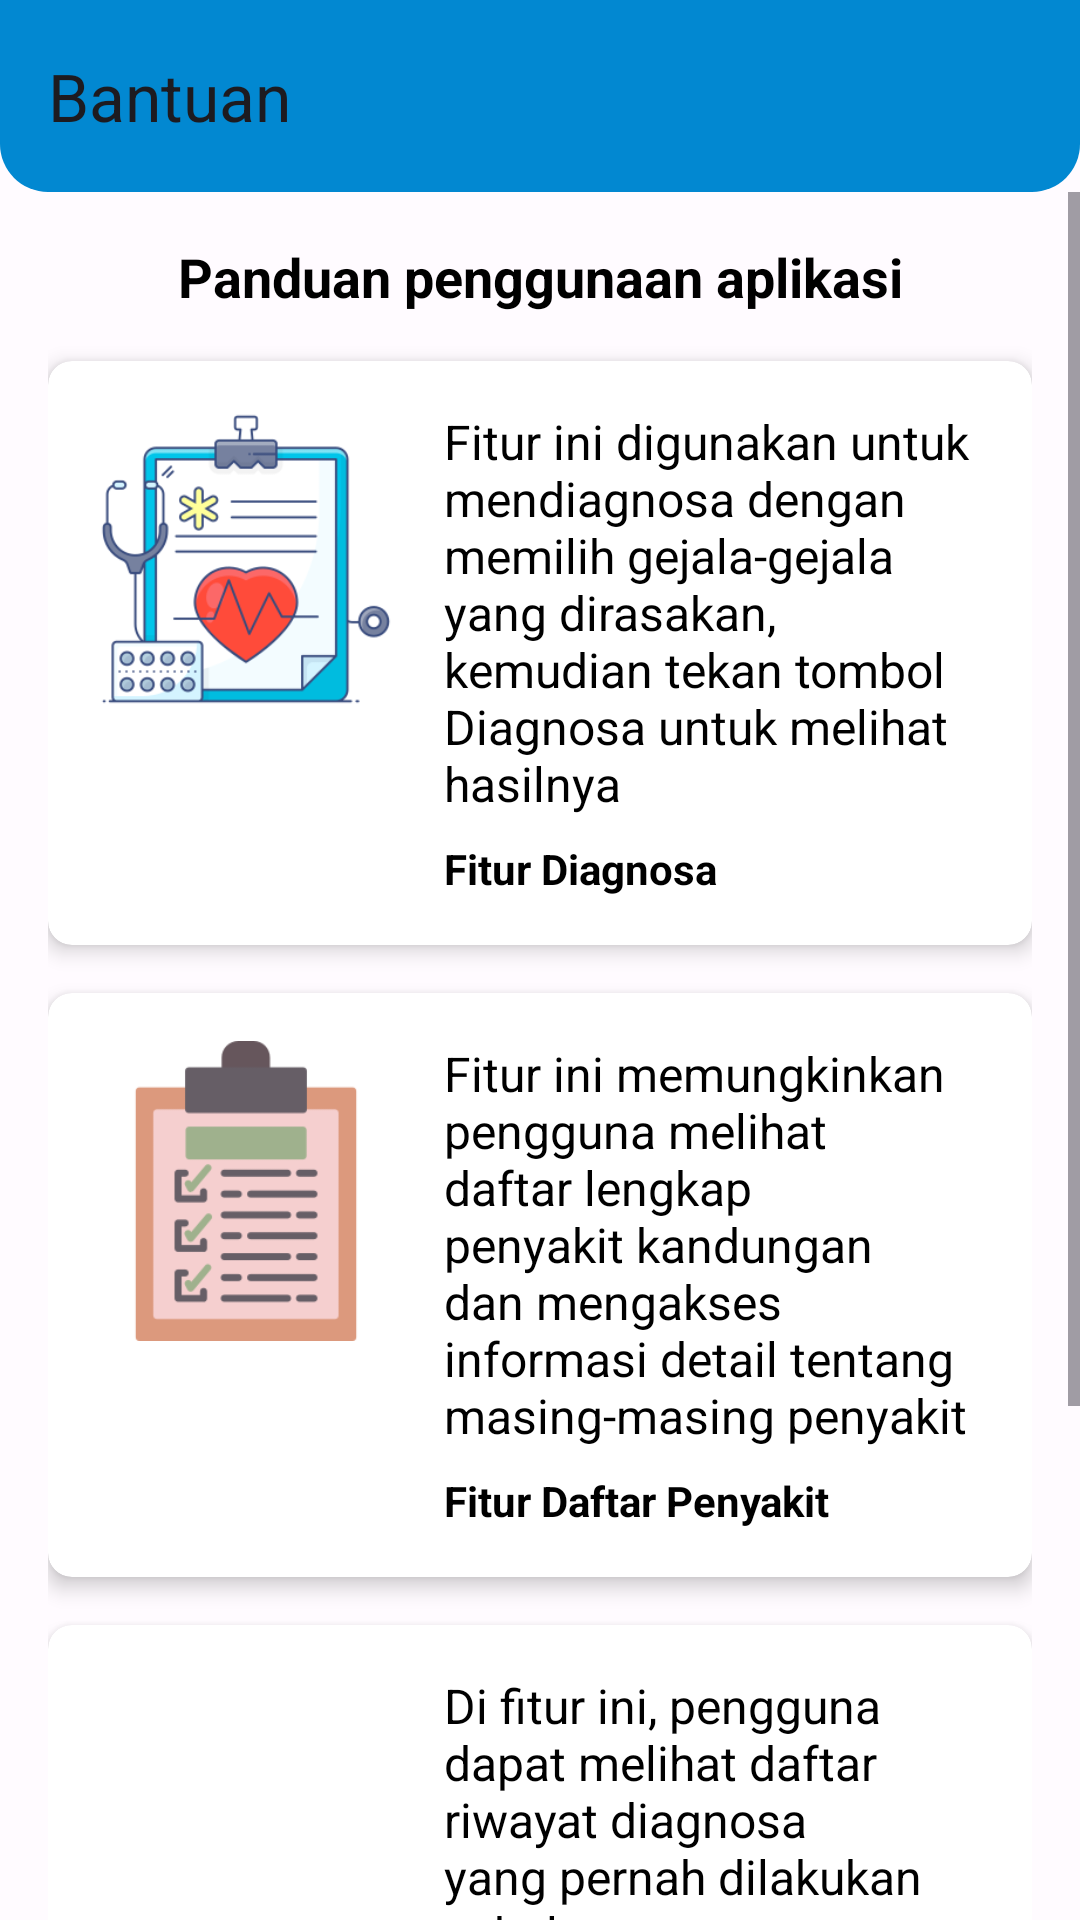

Screen size 1080 × 1920. Icon name, then its box in pixels as (x1, y1, x2, y2):
checklist: (135, 1041, 357, 1341)
diagnosis: (102, 415, 390, 703)
